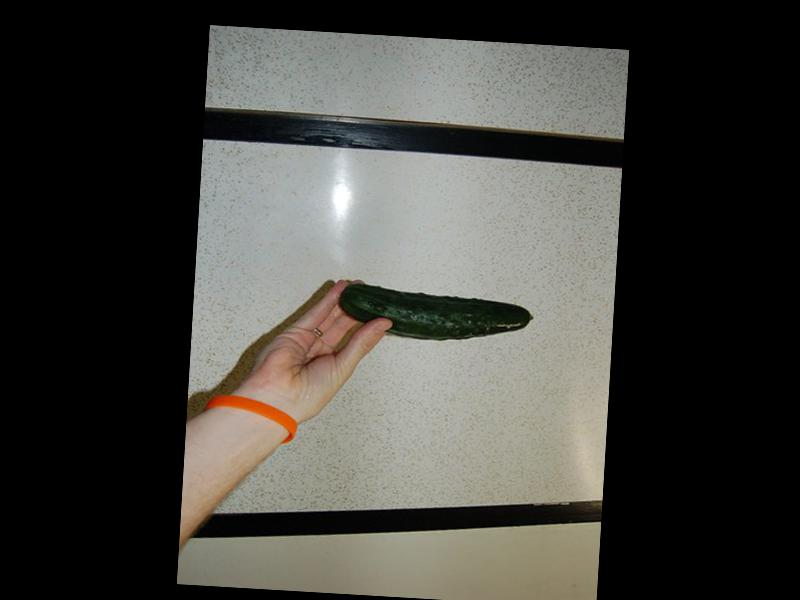Cucumber: (337, 282, 535, 344)
